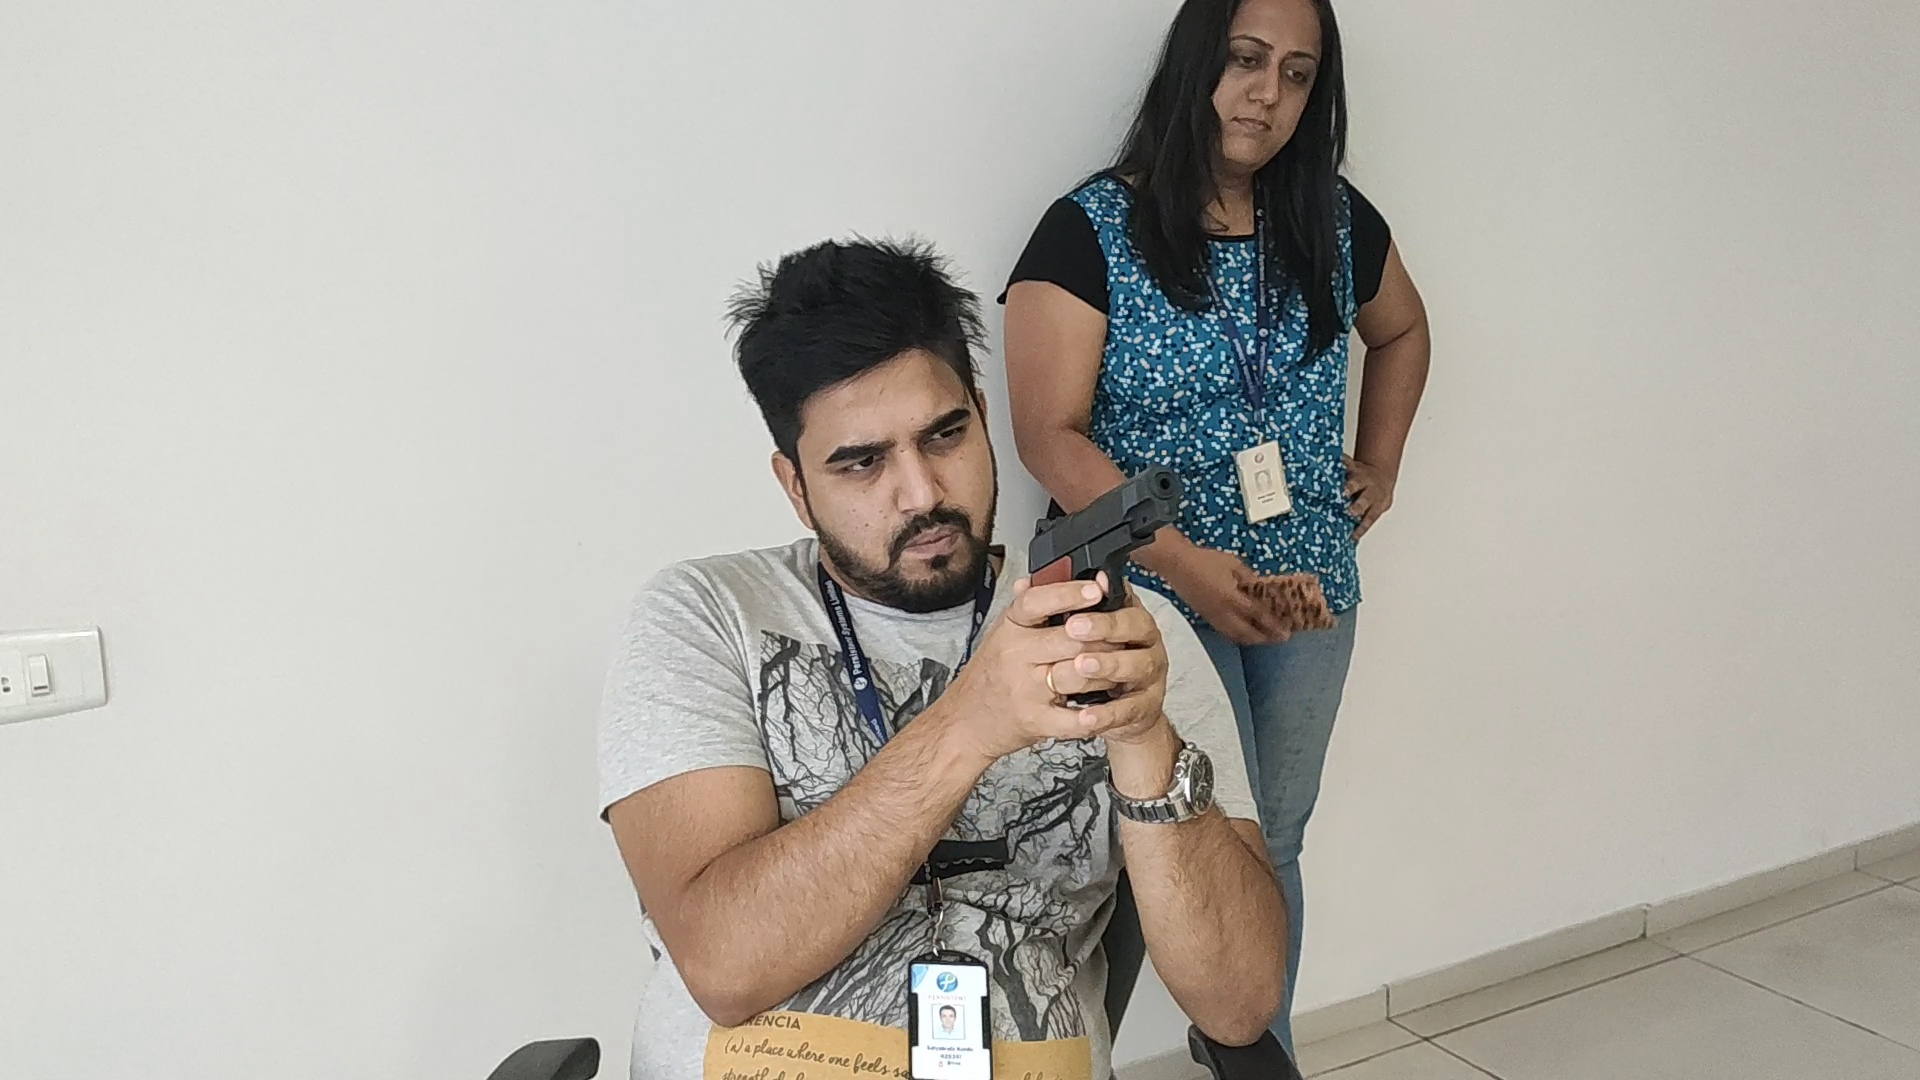gun: (1029, 464, 1183, 571)
